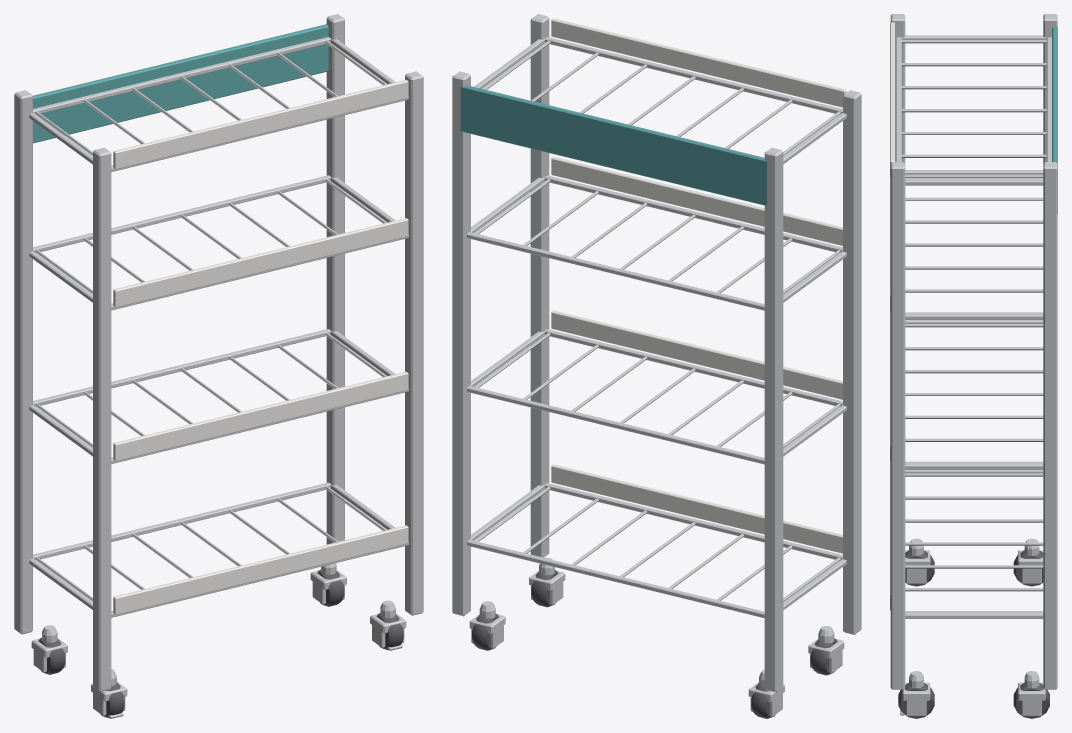
File: fast-food-and-drive-thru-delivery-driver-pickup-shelf-462db858__16110.glb
3 views of the same model, side by side, from view 1: azimuth 30°, elevation 25°; view 2: azimuth 150°, elevation 25°; view 3: azimuth 270°, elevation 25° (orthographic). The views are drawn at different scales.
Visible parts, largest first — view 1: delivery-driver-pickup-shelf; view 2: delivery-driver-pickup-shelf; view 3: delivery-driver-pickup-shelf.
Part boxes in pixels (x1,y1,x2,y2): delivery-driver-pickup-shelf: (14,14,423,718); delivery-driver-pickup-shelf: (452,14,861,718); delivery-driver-pickup-shelf: (890,14,1057,718).
Bounding box in the file's own units: 0.885 × 1.5 × 0.4071.
